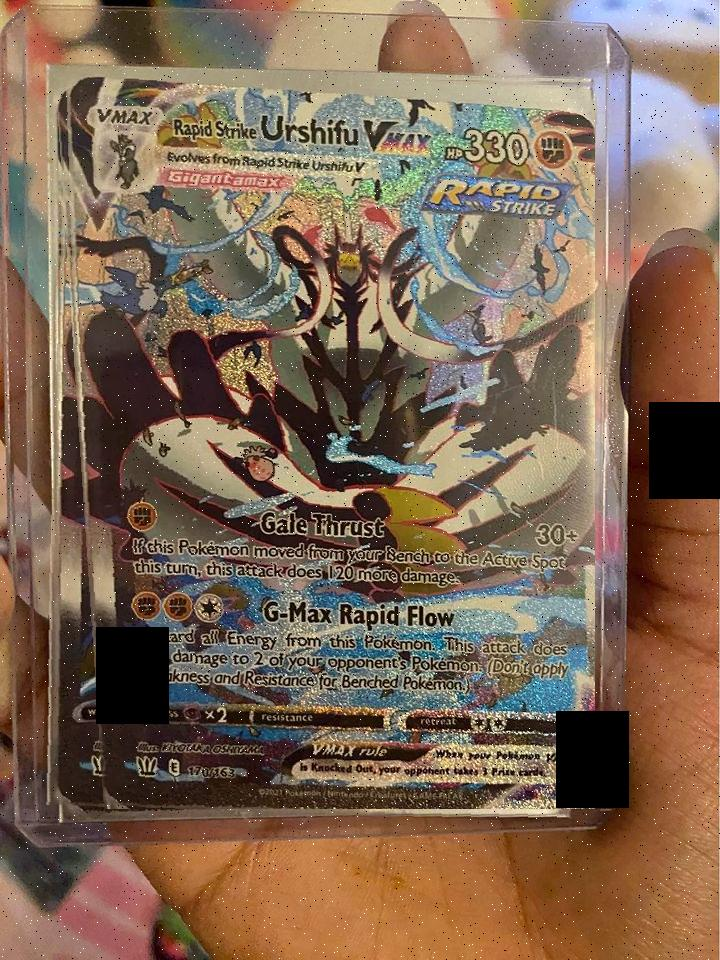card: (68, 75, 595, 809)
